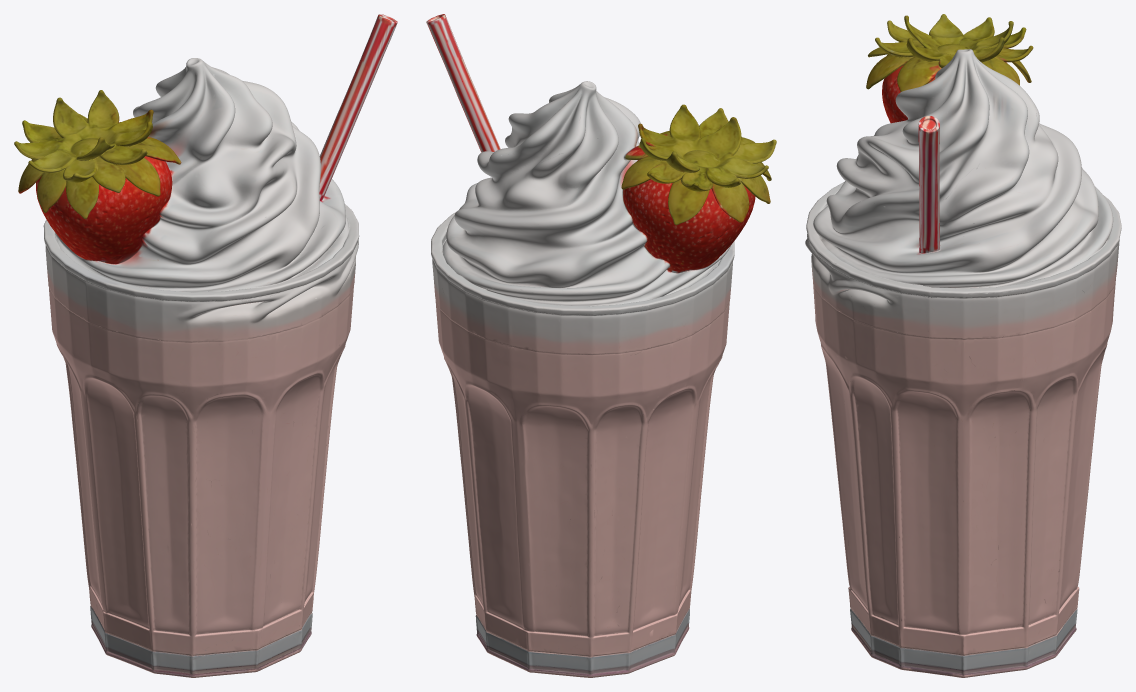
Rendered from MILKSHAKE.glb.
3 views of the same model, side by side, from view 1: azimuth 30°, elevation 25°; view 2: azimuth 150°, elevation 25°; view 3: azimuth 270°, elevation 25° (orthographic). The views are drawn at different scales.
Parts seen in each view (by area): view 1: texture_pbr_v128; view 2: texture_pbr_v128; view 3: texture_pbr_v128.
Boxes of the visible parts, x1,y1,x2,y2 form: texture_pbr_v128: (14, 14, 397, 677); texture_pbr_v128: (426, 14, 776, 677); texture_pbr_v128: (805, 14, 1121, 677).
Bounding box in the file's own units: 0.6541 × 1.02 × 0.4923.
Materials: 1 (1 with a texture image).
